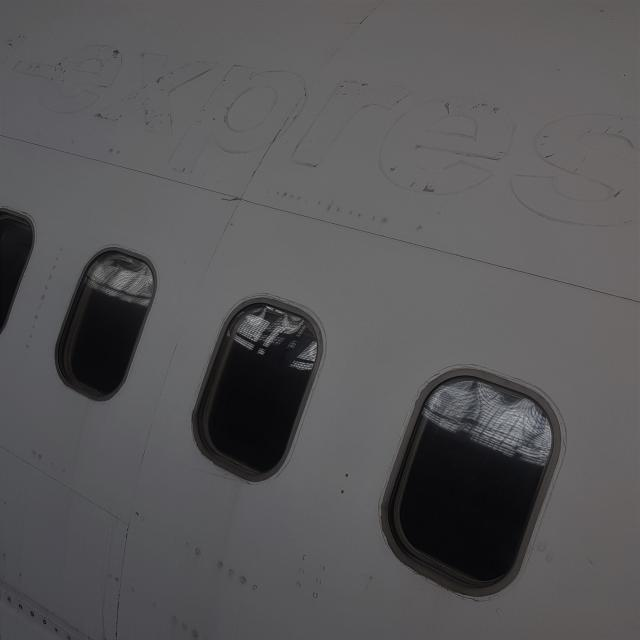Rupture: (214, 190, 242, 206)
